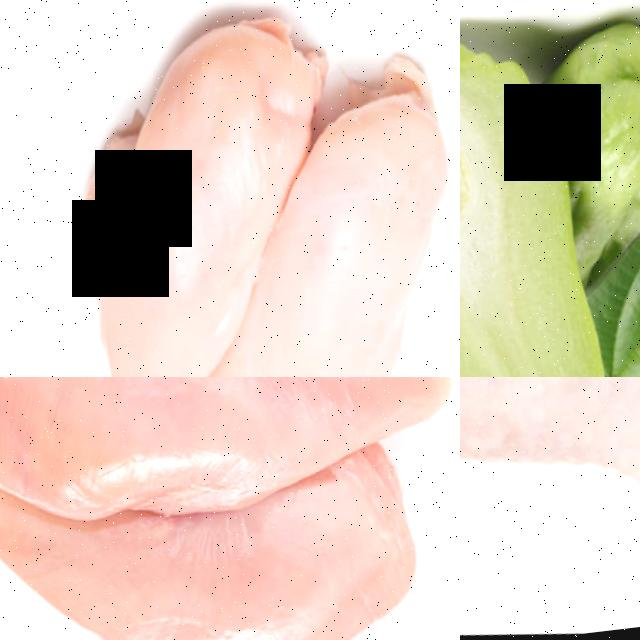chayote: (460, 6, 640, 377)
chicken breast: (0, 0, 460, 377), (0, 377, 460, 553), (0, 482, 449, 640)
chicken thigh: (460, 377, 640, 640)
